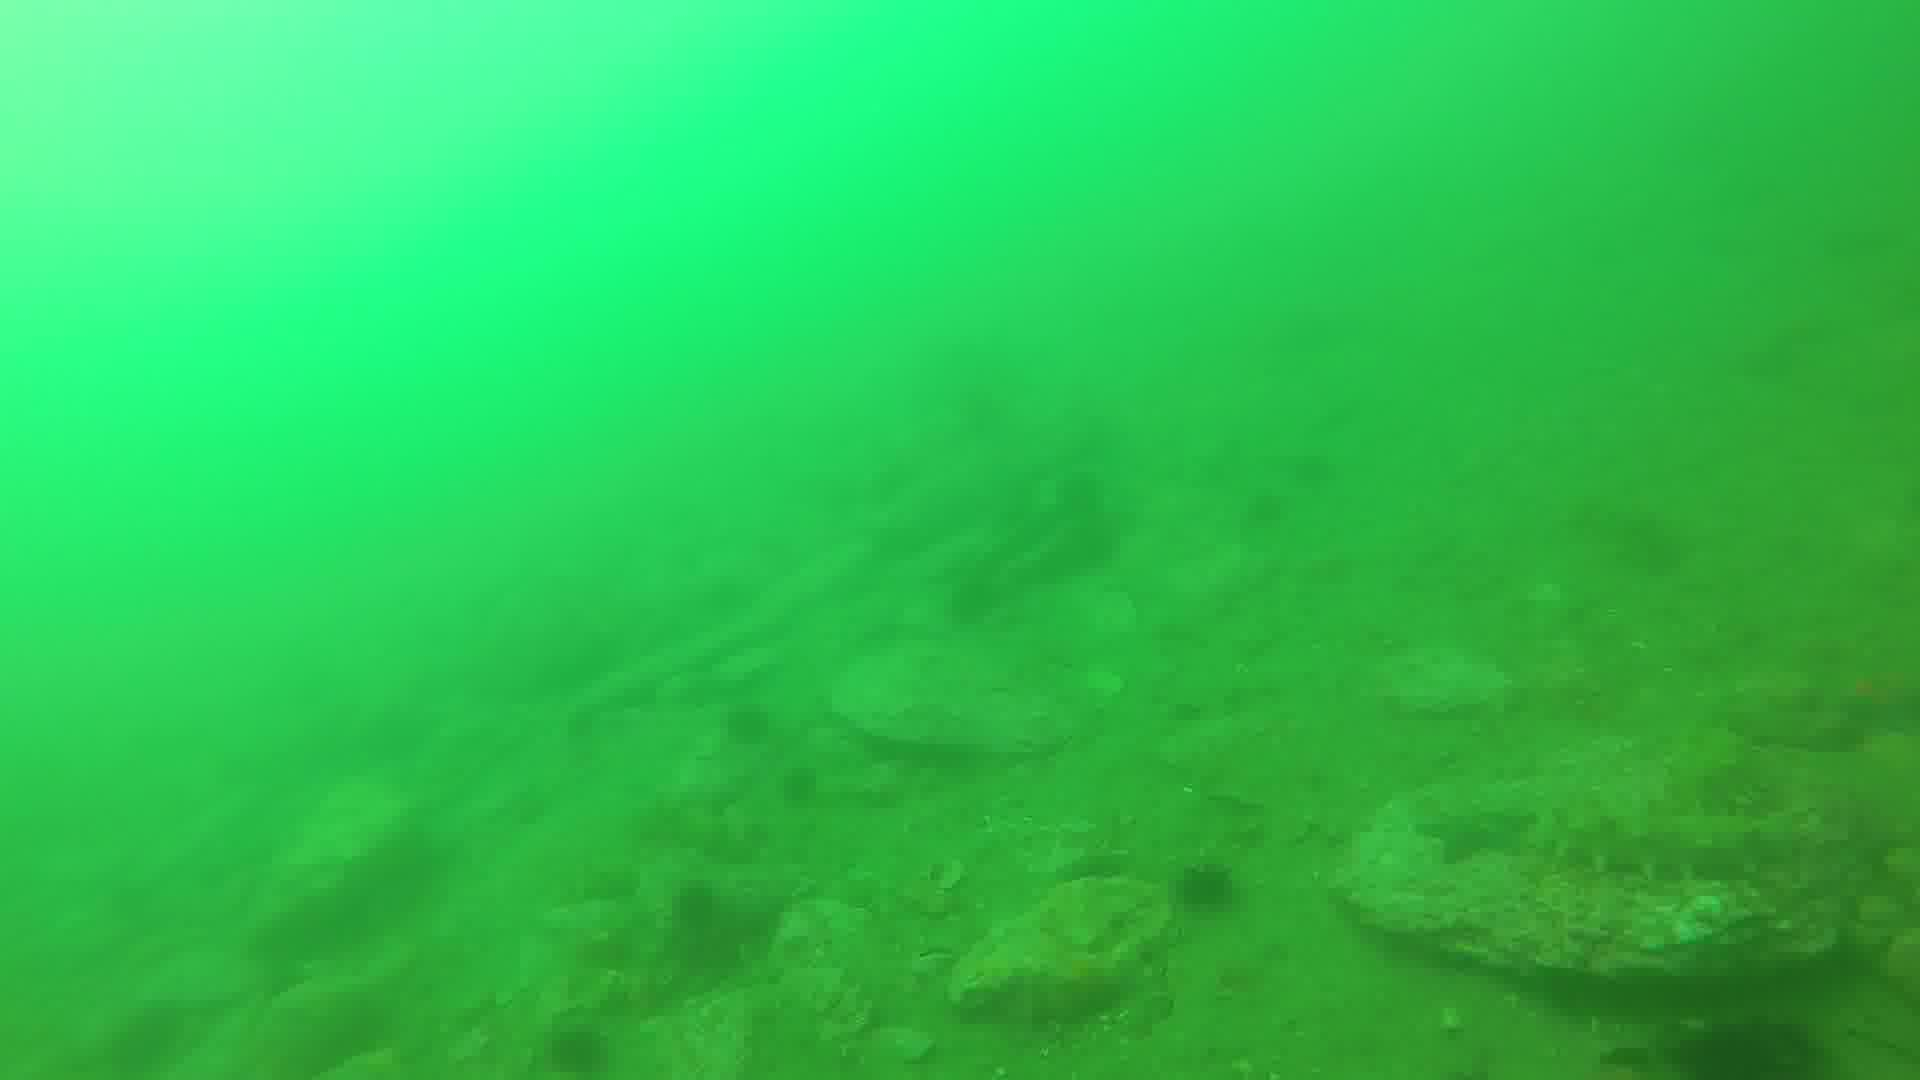echinus: (1683, 1006, 1834, 1080), (1180, 858, 1242, 906)
holothurian: (1568, 800, 1832, 886)
